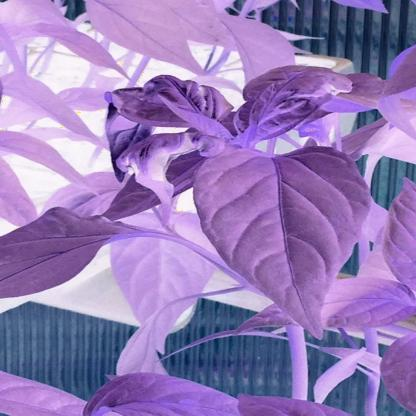Bell_pepper leaf spot: (193, 145, 377, 344), (3, 206, 204, 303)
